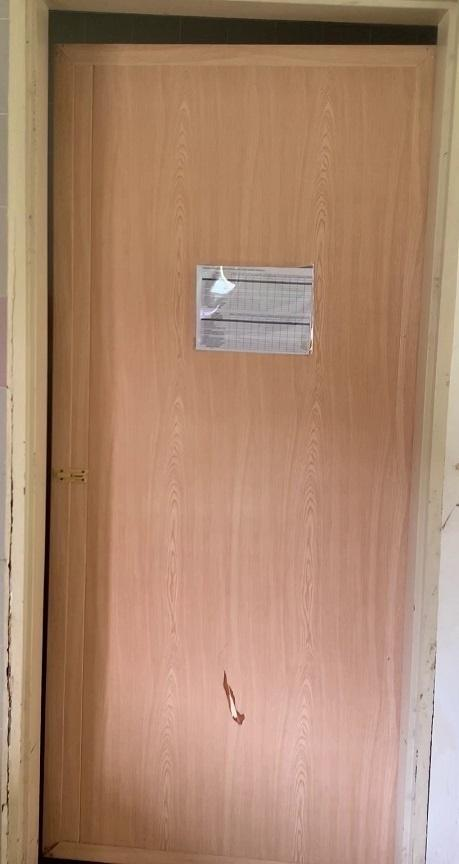door: (61, 23, 414, 854)
